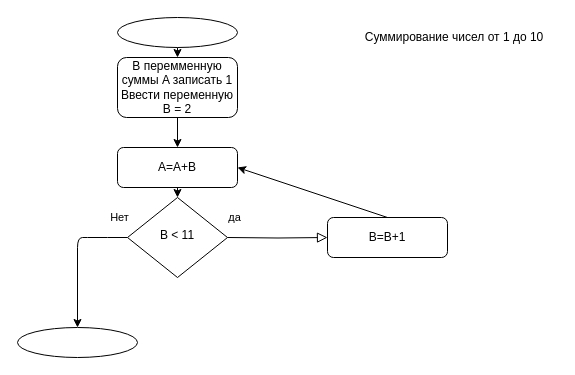
Some shapes in this 575 by 375 pixel diagram are drawn without their labels. The centre of each missing label's shape, as x and y in pixels:
"конец" goes at point (77, 342).
"начало" goes at point (177, 32).
